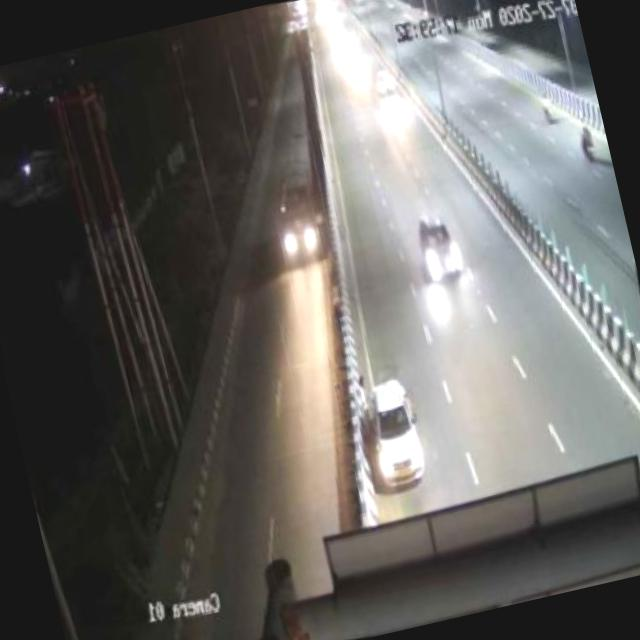car: (358, 376, 437, 495), (401, 203, 466, 288), (367, 72, 400, 105)
